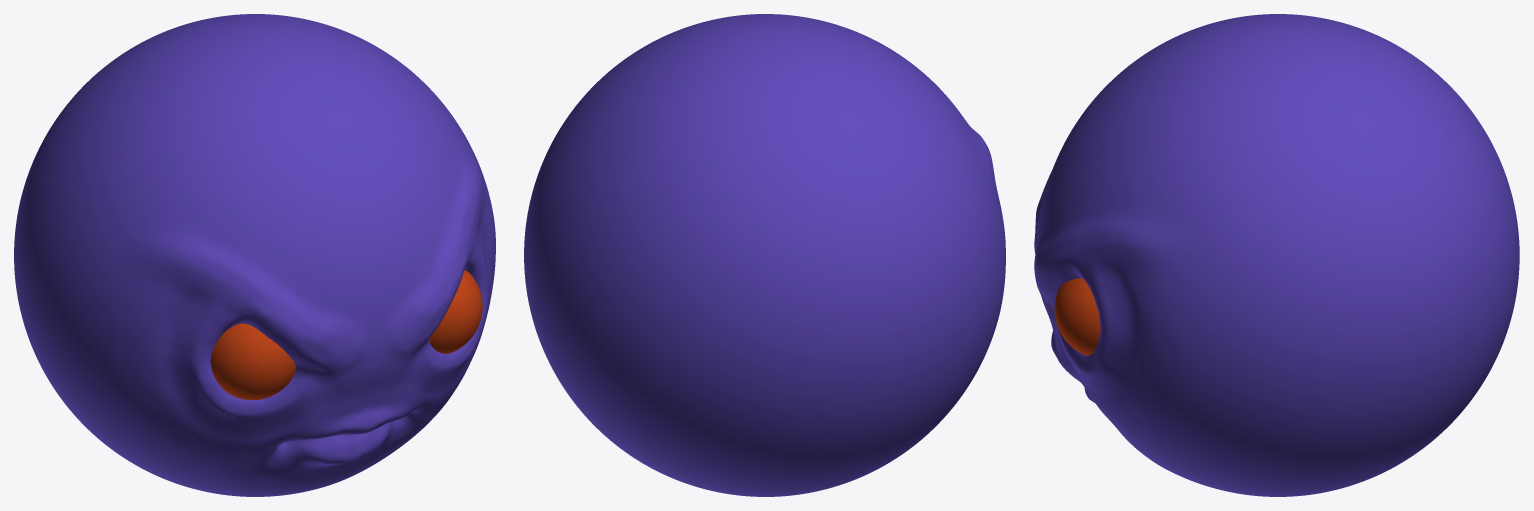
File: sphereEnemy1.fbx
3 views of the same model, side by side, from view 1: azimuth 30°, elevation 25°; view 2: azimuth 150°, elevation 25°; view 3: azimuth 270°, elevation 25° (orthographic).
Parts seen in each view (by area): view 1: PM3D_Sphere3D, PolySphere1; view 2: PM3D_Sphere3D; view 3: PM3D_Sphere3D, PolySphere1.
Part boxes in pixels (bbox=[...]): PM3D_Sphere3D: bbox=[14, 14, 495, 496]; PolySphere1: bbox=[210, 270, 482, 400]; PM3D_Sphere3D: bbox=[524, 14, 1005, 496]; PM3D_Sphere3D: bbox=[1034, 14, 1519, 496]; PolySphere1: bbox=[1054, 278, 1100, 355].
Size of the model in its own units: 733 by 733 by 737.
